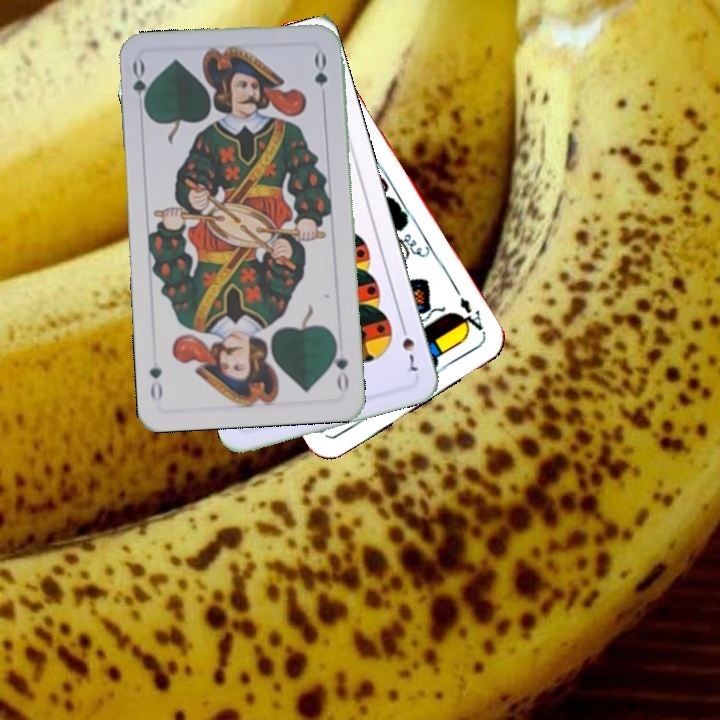EA: (452, 293, 489, 338)
GO: (128, 57, 153, 116), (328, 336, 351, 394)
S7: (397, 319, 421, 375)
